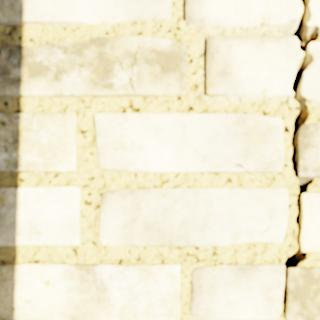brick: (0, 36, 187, 97), (94, 113, 283, 173), (100, 188, 287, 246), (0, 264, 180, 319), (190, 265, 283, 319), (0, 187, 80, 245), (0, 113, 76, 172), (0, 0, 172, 25), (286, 268, 319, 319), (297, 123, 319, 177), (301, 193, 319, 251)
broken_brick: (205, 35, 301, 97), (185, 0, 300, 27), (301, 41, 319, 102), (308, 0, 319, 31)
crack: (280, 0, 319, 318), (234, 162, 249, 172), (158, 313, 179, 319)
